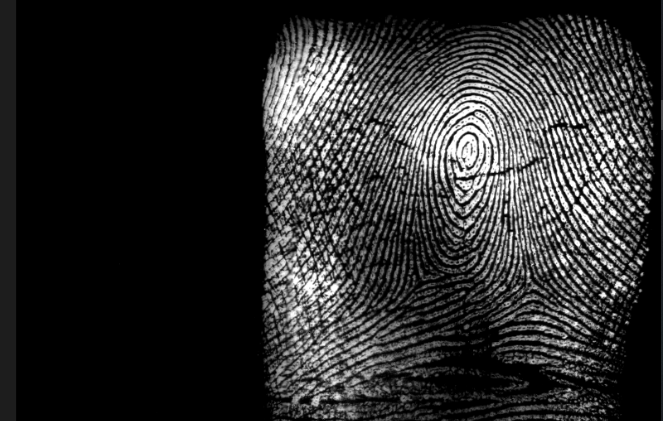deltas: (387, 252, 442, 303), (506, 257, 558, 310)
nucleo: (440, 122, 495, 179)
